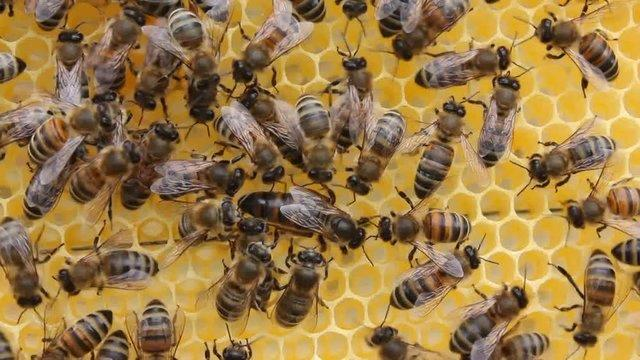Queen-Bee: (238, 186, 365, 253)
worker-bee: (549, 247, 625, 358), (532, 4, 618, 96), (54, 224, 164, 295), (387, 240, 484, 316), (409, 96, 478, 199), (346, 110, 423, 201), (267, 93, 343, 183), (232, 0, 313, 83), (527, 118, 615, 191), (142, 8, 228, 79), (449, 282, 528, 359), (69, 139, 143, 221), (213, 100, 283, 183), (376, 0, 471, 60), (28, 103, 121, 164), (324, 34, 372, 152), (88, 6, 145, 100), (376, 188, 471, 244), (239, 85, 303, 168), (121, 119, 179, 209), (564, 168, 639, 237), (0, 216, 56, 308), (23, 136, 85, 218), (212, 238, 272, 321), (272, 245, 327, 327), (474, 72, 519, 166), (415, 45, 511, 88), (151, 155, 244, 198), (40, 309, 112, 359), (126, 298, 183, 359), (134, 42, 179, 116), (366, 315, 439, 359), (185, 53, 219, 137), (178, 198, 239, 244), (55, 27, 88, 102), (489, 332, 549, 359), (189, 82, 206, 125)
